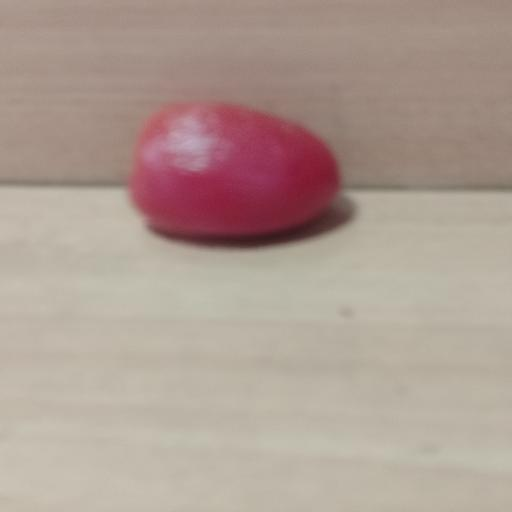spoiled: (130, 103, 339, 237)
